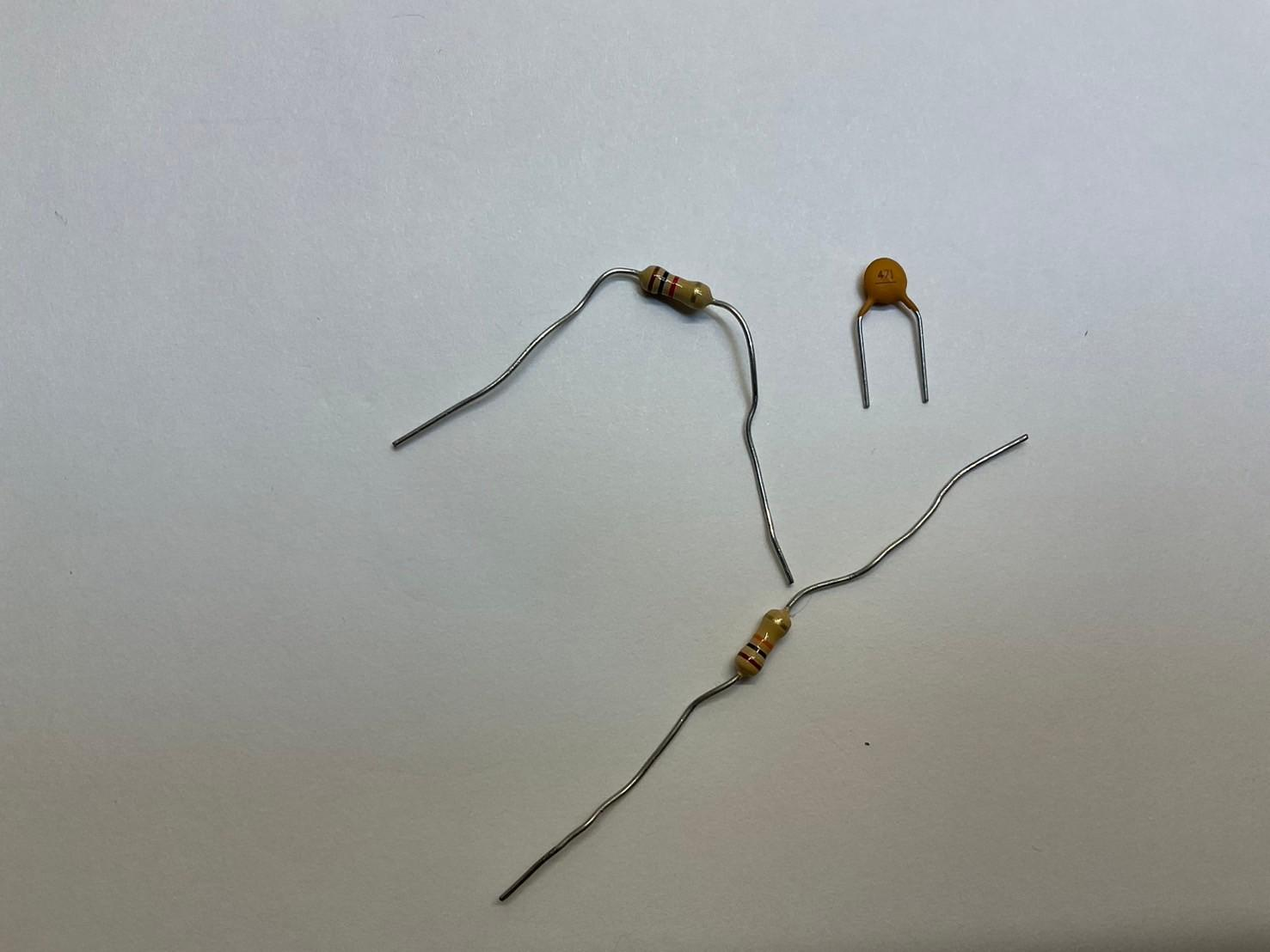resistor: (728, 606, 793, 678), (638, 263, 714, 317)
